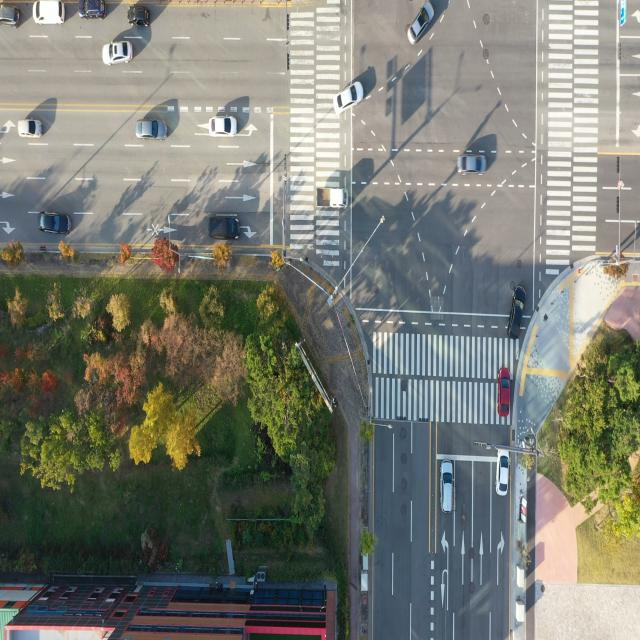car: (407, 0, 437, 44), (336, 81, 364, 116), (508, 284, 526, 338), (33, 0, 66, 28), (214, 212, 243, 242), (101, 36, 131, 64), (442, 458, 456, 515), (40, 212, 71, 236), (495, 449, 510, 497), (137, 120, 168, 143), (129, 1, 153, 29), (457, 153, 486, 176), (18, 114, 45, 137), (209, 118, 239, 138), (80, 0, 104, 24), (0, 4, 23, 27), (498, 371, 509, 416)
small_truck: (313, 185, 350, 212)
